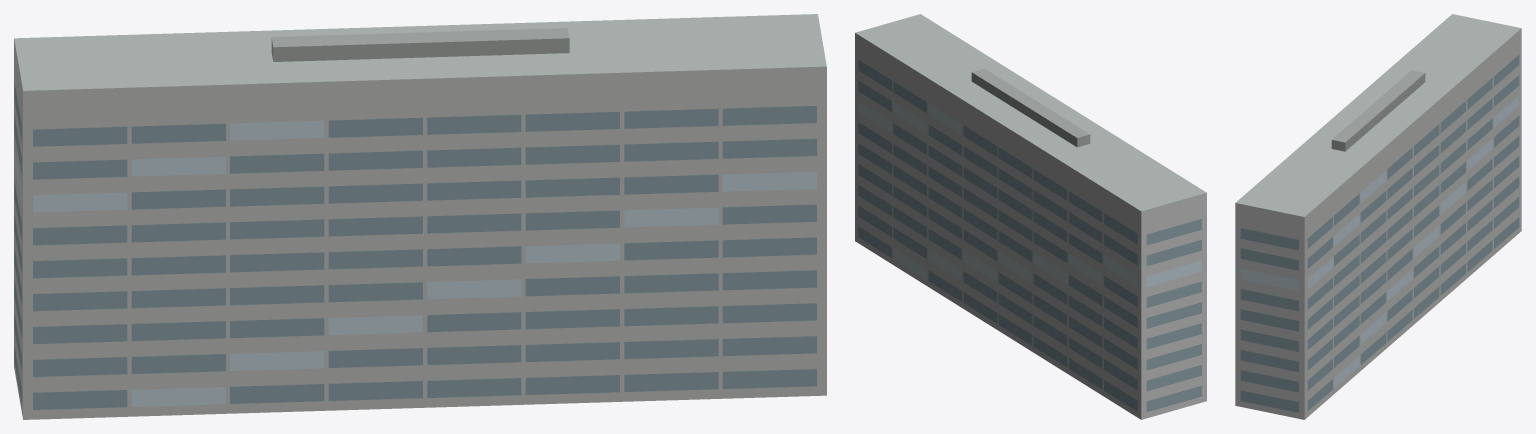
The model's file is fallback-olympic-athletes-village-250.glb.
3 renders of one model, left to right at view 1: azimuth 30°, elevation 25°; view 2: azimuth 150°, elevation 25°; view 3: azimuth 270°, elevation 25°, orthographic. The views are drawn at different scales.
Visible parts, largest first — view 1: fallback-olympic-athletes-village-250; view 2: fallback-olympic-athletes-village-250; view 3: fallback-olympic-athletes-village-250.
Part boxes in pixels (bbox=[...]): fallback-olympic-athletes-village-250: bbox=[14, 14, 826, 419]; fallback-olympic-athletes-village-250: bbox=[855, 14, 1206, 419]; fallback-olympic-athletes-village-250: bbox=[1235, 14, 1521, 419].
Size of the model in its own units: 65.46 by 31.87 by 39.
